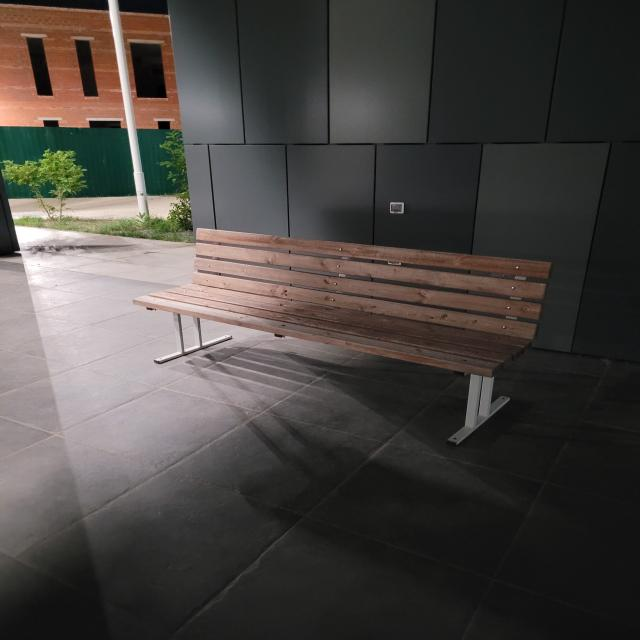Bench: (132, 228, 554, 446)
